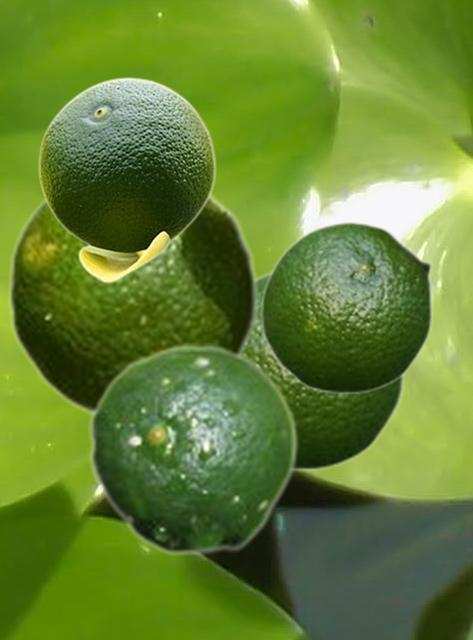calamansi: (6, 189, 259, 419), (88, 343, 298, 556), (38, 77, 215, 282), (245, 267, 405, 471), (260, 221, 433, 394)
